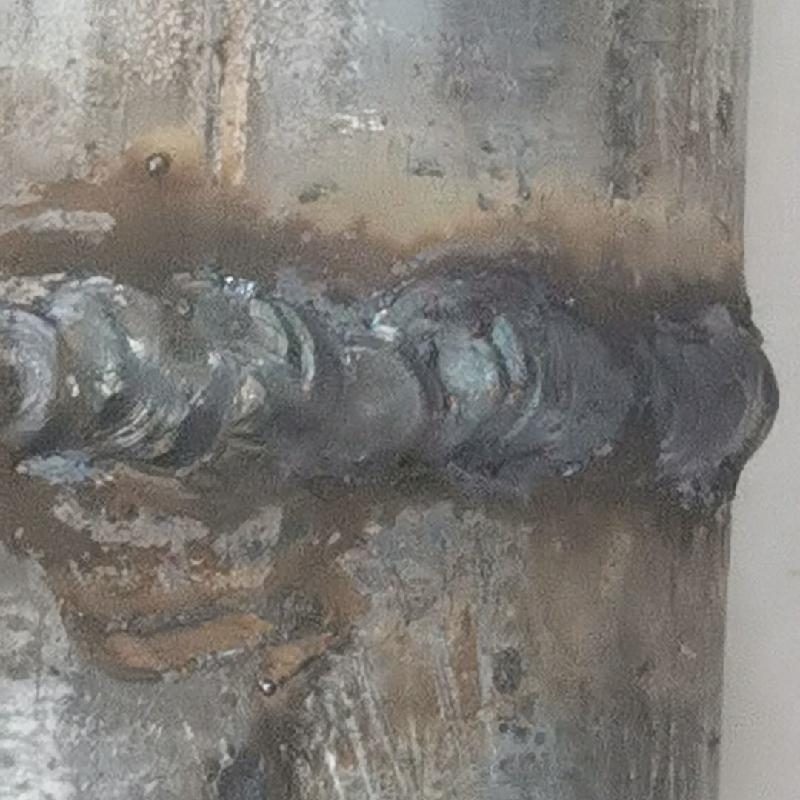good: (2, 267, 781, 495)
